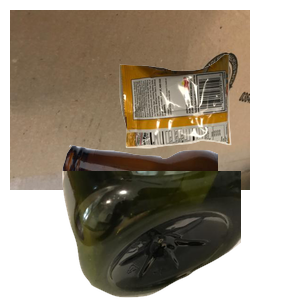cardboard: (10, 10, 250, 190)
glass: (60, 142, 300, 300)
plastic: (60, 171, 300, 300)
trash: (117, 52, 300, 193)
